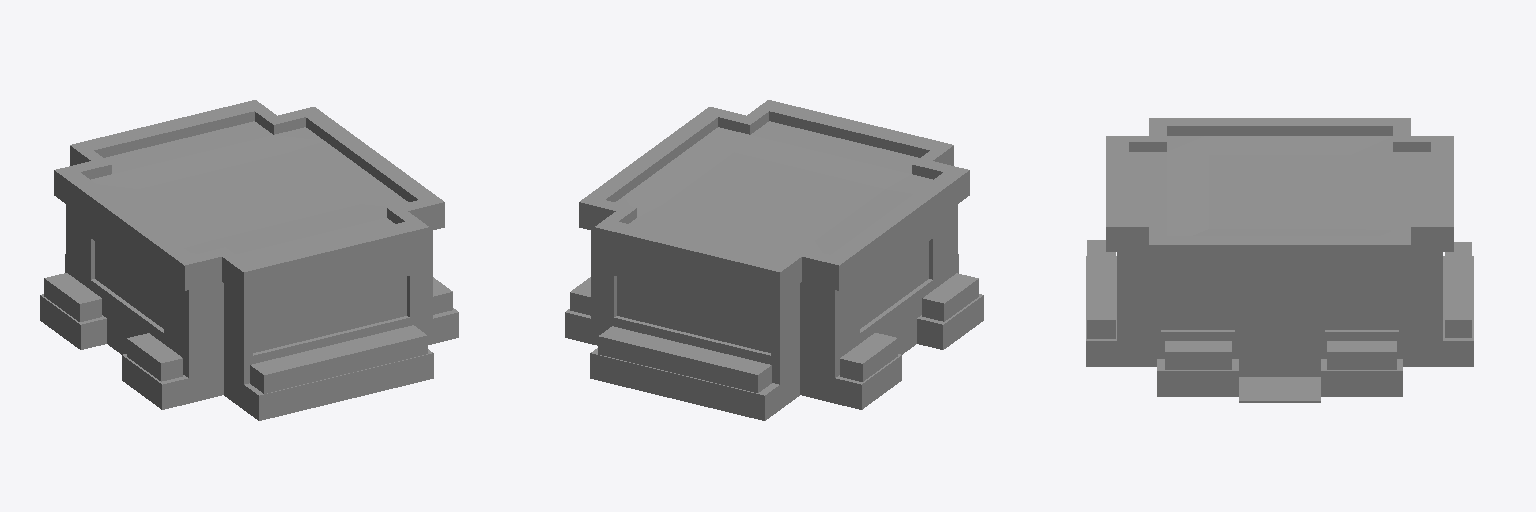
Rendered from Shop.obj.
3 views of the same model, side by side, from view 1: azimuth 30°, elevation 25°; view 2: azimuth 150°, elevation 25°; view 3: azimuth 270°, elevation 25° (orthographic).
Parts seen in each view (by area): view 1: Cube_Cube.001; view 2: Cube_Cube.001; view 3: Cube_Cube.001.
Boxes of the visible parts, x1,y1,x2,y2 form: Cube_Cube.001: [40, 100, 458, 420]; Cube_Cube.001: [565, 100, 983, 420]; Cube_Cube.001: [1086, 118, 1473, 402].
Bounding box in the file's own units: 3.55 × 1.56 × 3.84.